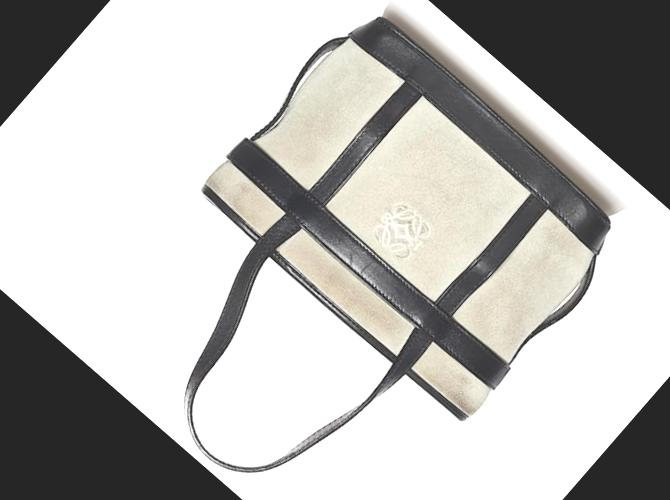LOEWE: (358, 190, 440, 272)
